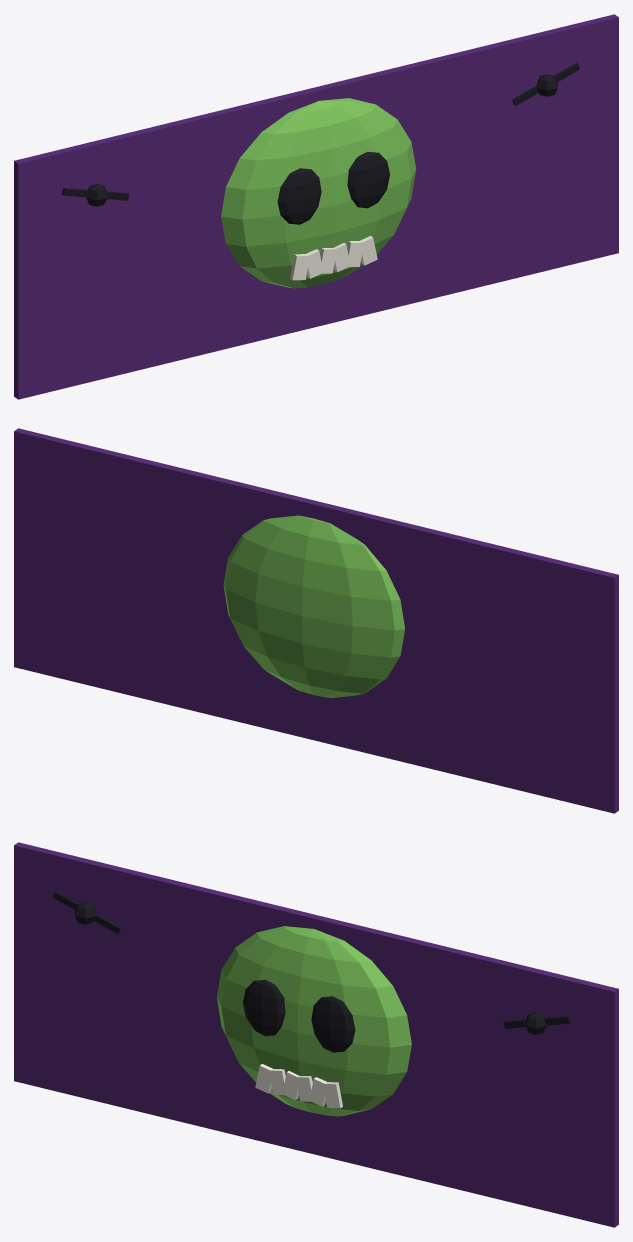
File: ghost_train_face.glb
3 views of the same model, one above another, from view 1: azimuth 30°, elevation 25°; view 2: azimuth 150°, elevation 25°; view 3: azimuth 330°, elevation 25° (orthographic).
Visible parts, largest first — view 1: board_ghost_purple, skull_ghost_green, eyes_ghost_dark, bats_ghost_dark; view 2: board_ghost_purple, skull_ghost_green; view 3: board_ghost_purple, skull_ghost_green, eyes_ghost_dark, bats_ghost_dark.
Part boxes in pixels (x1,y1,x2,y2): board_ghost_purple: (14, 14, 618, 399); skull_ghost_green: (221, 98, 416, 288); eyes_ghost_dark: (277, 151, 389, 224); bats_ghost_dark: (61, 63, 579, 206); board_ghost_purple: (14, 428, 618, 813); skull_ghost_green: (223, 515, 404, 698); board_ghost_purple: (14, 842, 618, 1227); skull_ghost_green: (216, 926, 411, 1116); eyes_ghost_dark: (243, 979, 355, 1052); bats_ghost_dark: (53, 891, 571, 1034).
Bounding box in the file's own units: 8 × 3 × 0.83.
